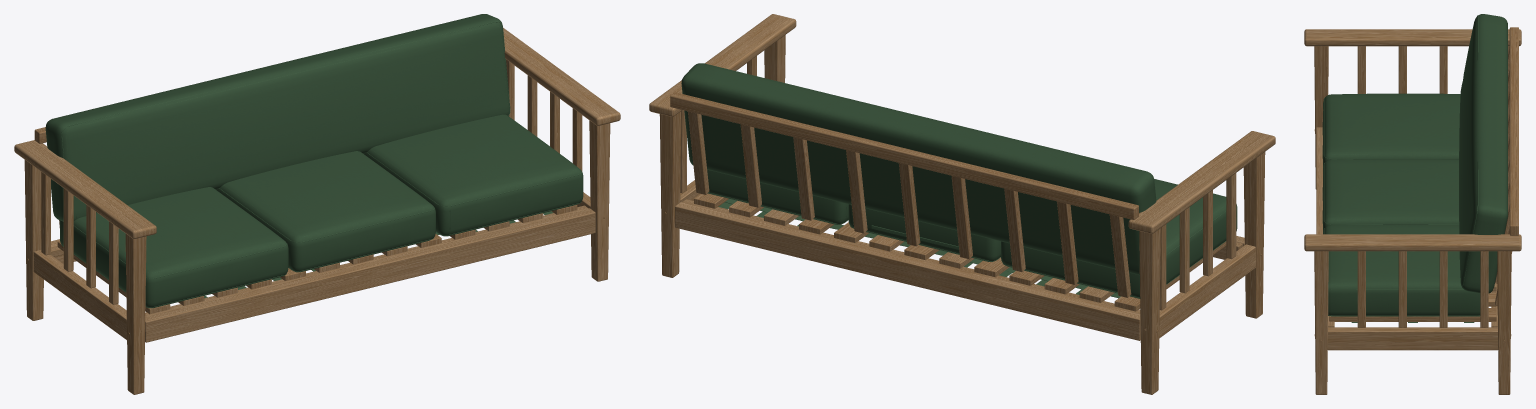
Rendered from sofa-pipeline.glb.
3 views of the same model, side by side, from view 1: azimuth 30°, elevation 25°; view 2: azimuth 150°, elevation 25°; view 3: azimuth 270°, elevation 25° (orthographic). The views are drawn at different scales.
Visible parts, largest first — view 1: sofa-pipeline upholstery-textured, sofa-pipeline wood-honey-textured, sofa-pipeline tailored-tone-on-tone-stitch; view 2: sofa-pipeline wood-honey-textured, sofa-pipeline upholstery-textured, sofa-pipeline tailored-tone-on-tone-stitch; view 3: sofa-pipeline upholstery-textured, sofa-pipeline wood-honey-textured, sofa-pipeline tailored-tone-on-tone-stitch.
Part boxes in pixels (x1,y1,x2,y2): sofa-pipeline upholstery-textured: (45, 14, 583, 308); sofa-pipeline wood-honey-textured: (14, 27, 620, 394); sofa-pipeline tailored-tone-on-tone-stitch: (61, 21, 582, 307); sofa-pipeline wood-honey-textured: (649, 14, 1275, 394); sofa-pipeline upholstery-textured: (681, 63, 1237, 298); sofa-pipeline tailored-tone-on-tone-stitch: (703, 63, 1226, 298); sofa-pipeline upholstery-textured: (1322, 14, 1507, 316); sofa-pipeline wood-honey-textured: (1304, 27, 1521, 394); sofa-pipeline tailored-tone-on-tone-stitch: (1323, 15, 1479, 322).
Bounding box in the file's own units: 2 × 0.78 × 0.85.
Materials: 4 (2 with a texture image).
